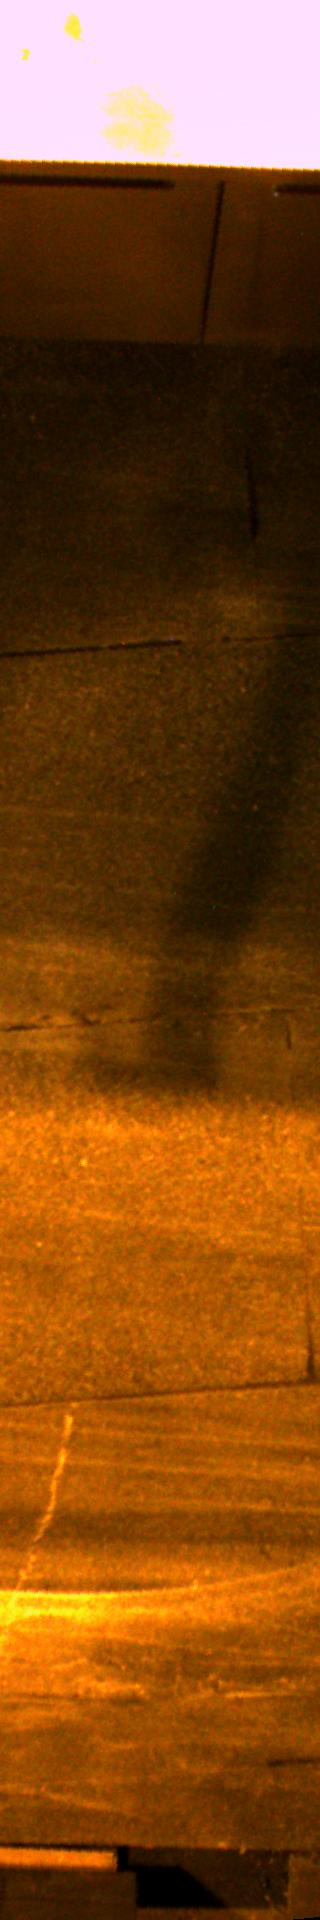keyPoint_2: (98, 932, 128, 962)
